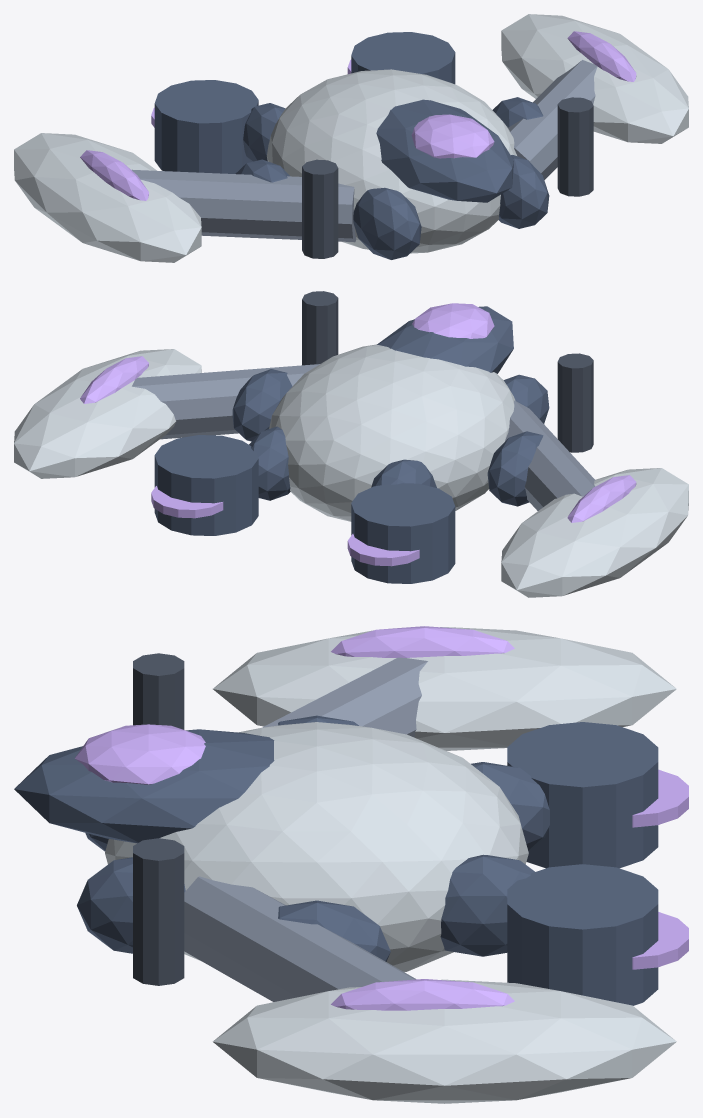
Rendered from npc_lordakia.glb.
The picture shows the model from 3 angles, top to bottom: view 1: azimuth 30°, elevation 25°; view 2: azimuth 150°, elevation 25°; view 3: azimuth 270°, elevation 25°; orthographic projection. The views are drawn at different scales.
Visible parts, largest first — view 1: hull, wing_armor_-1, wing_armor_1, wingframe_-1, engine_-1, sensory_cockpit, wingframe_1, engine_1, spike_2, weapon_1, weapon_-1, central_eye (+6 smaller); view 2: hull, wing_armor_-1, wing_armor_1, engine_-1, engine_1, wingframe_1, wingframe_-1, sensory_cockpit, weapon_-1, spike_0, spike_3, weapon_1 (+8 smaller); view 3: hull, wing_armor_1, wing_armor_-1, engine_1, engine_-1, sensory_cockpit, wingframe_1, weapon_1, spike_5, central_eye, wingframe_-1, wing_energy_1 (+7 smaller).
Part boxes in pixels (left/top/right/bottom): hull: left=266, top=69, right=516, bottom=253; wing_armor_-1: left=14, top=133, right=201, bottom=262; wing_armor_1: left=501, top=14, right=688, bottom=143; wingframe_-1: left=132, top=169, right=356, bottom=242; engine_-1: left=154, top=80, right=258, bottom=173; sensory_cockpit: left=376, top=99, right=513, bottom=202; wingframe_1: left=508, top=60, right=597, bottom=179; engine_1: left=351, top=32, right=455, bottom=84; spike_2: left=353, top=187, right=421, bottom=259; weapon_1: left=557, top=97, right=593, bottom=196; weapon_-1: left=302, top=159, right=338, bottom=258; central_eye: left=411, top=114, right=494, bottom=158; hull: left=269, top=344, right=515, bottom=521; wing_armor_-1: left=501, top=468, right=688, bottom=597; wing_armor_1: left=14, top=349, right=201, bottom=478; engine_-1: left=351, top=483, right=455, bottom=583; engine_1: left=154, top=435, right=258, bottom=535; wingframe_1: left=132, top=364, right=319, bottom=439; wingframe_-1: left=505, top=400, right=595, bottom=510; sensory_cockpit: left=377, top=306, right=513, bottom=373; weapon_-1: left=557, top=353, right=593, bottom=452; spike_0: left=232, top=369, right=292, bottom=441; spike_3: left=487, top=431, right=543, bottom=506; weapon_1: left=302, top=291, right=338, bottom=365; hull: left=105, top=722, right=528, bottom=972; wing_armor_1: left=213, top=979, right=676, bottom=1103; wing_armor_-1: left=213, top=627, right=676, bottom=750; engine_1: left=507, top=864, right=658, bottom=1005; engine_-1: left=507, top=722, right=658, bottom=868; sensory_cockpit: left=14, top=729, right=274, bottom=843; wingframe_1: left=184, top=876, right=415, bottom=1001; weapon_1: left=133, top=838, right=184, bottom=985; spike_5: left=440, top=854, right=534, bottom=956; central_eye: left=75, top=724, right=205, bottom=784; wingframe_-1: left=262, top=657, right=427, bottom=737; wing_energy_1: left=331, top=979, right=514, bottom=1010.
Size of the model in its own units: 3.1 by 0.74 by 2.01.
